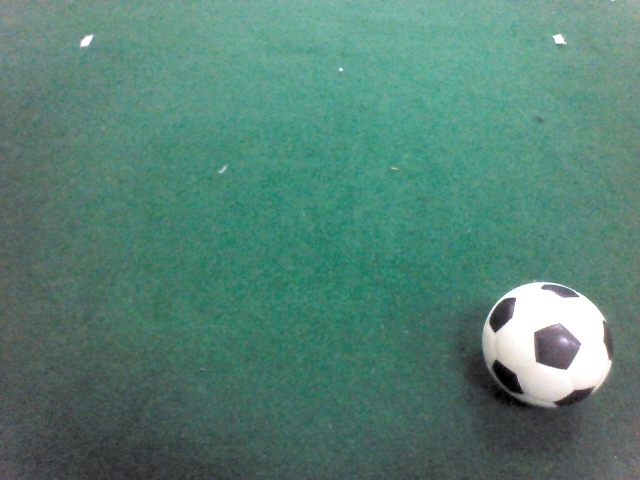ball: (481, 281, 617, 412)
